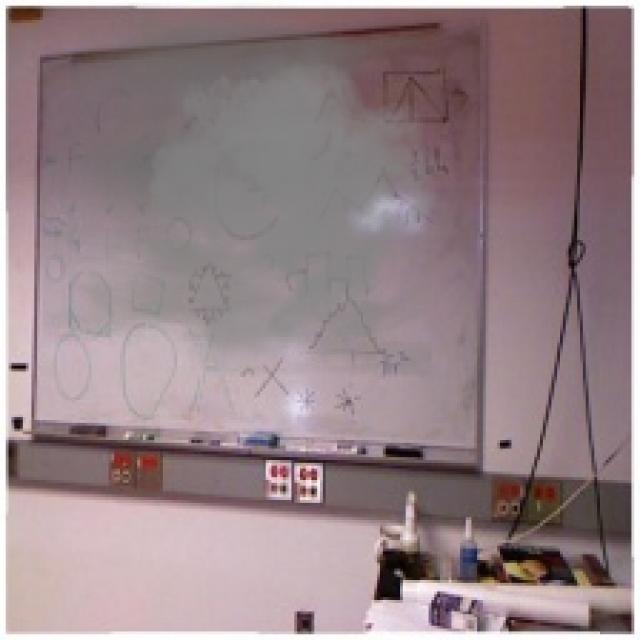Smoke: (43, 2, 446, 378)
